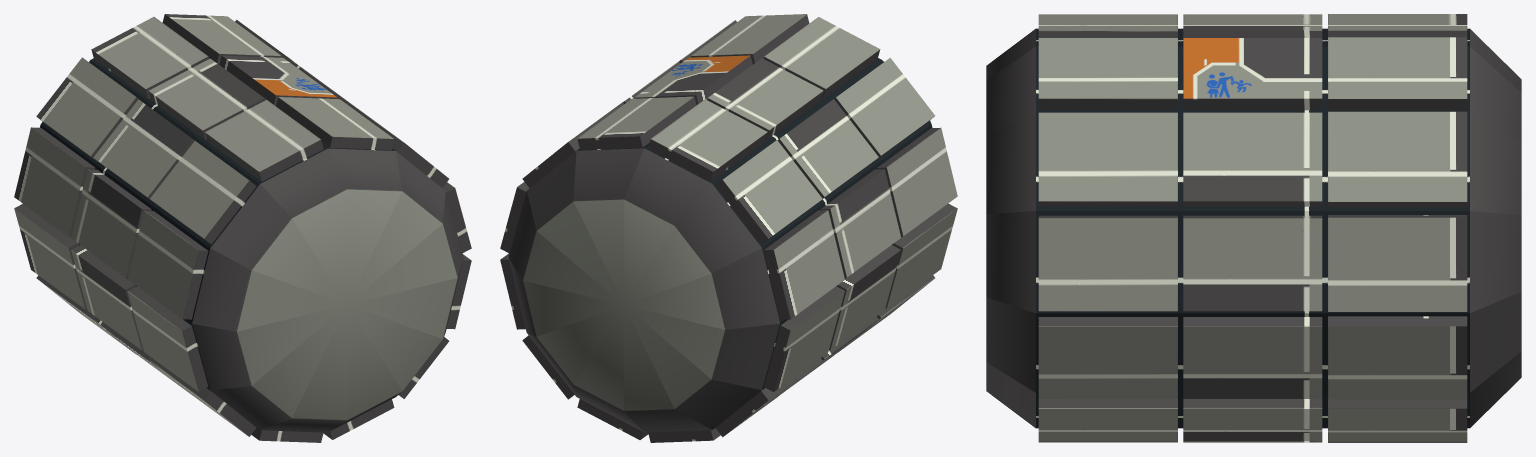
File: house.fbx
3 renders of one model, left to right at view 1: azimuth 30°, elevation 25°; view 2: azimuth 150°, elevation 25°; view 3: azimuth 270°, elevation 25°, orthographic. The views are drawn at different scales.
Visible parts, largest first — view 1: resourbuildes_and:resourbuildes_and:resourbuildes_and:resour; view 2: resourbuildes_and:resourbuildes_and:resourbuildes_and:resour; view 3: resourbuildes_and:resourbuildes_and:resourbuildes_and:resour.
Part boxes in pixels (bbox=[...]): resourbuildes_and:resourbuildes_and:resourbuildes_and:resour: bbox=[14, 14, 471, 442]; resourbuildes_and:resourbuildes_and:resourbuildes_and:resour: bbox=[500, 14, 957, 442]; resourbuildes_and:resourbuildes_and:resourbuildes_and:resour: bbox=[986, 14, 1521, 442].
Bounding box in the file's own units: 16.1 × 16.1 × 20.08.
